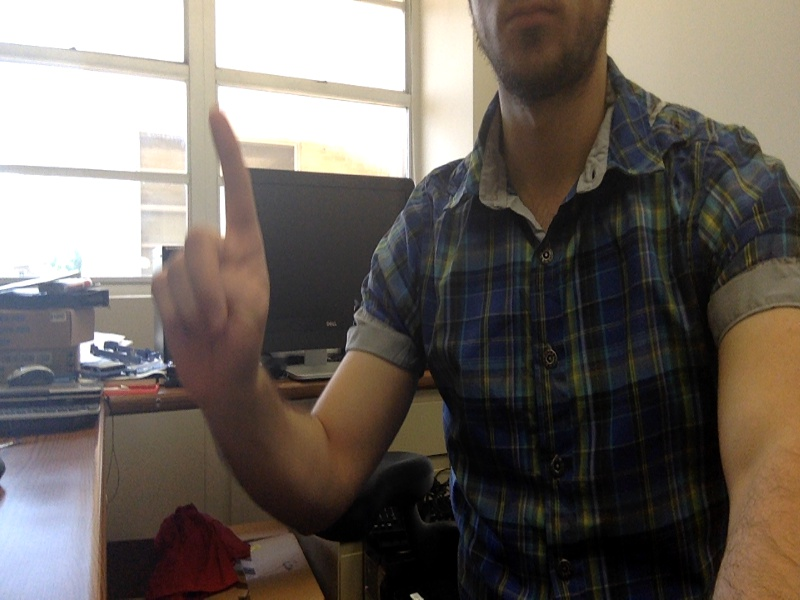1-hand: (155, 110, 268, 402)
